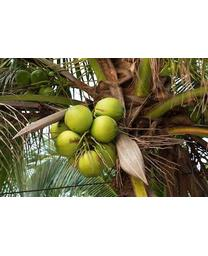coconut: (63, 104, 93, 131), (93, 116, 121, 142), (56, 131, 84, 157), (93, 98, 123, 118), (93, 143, 116, 169), (80, 149, 101, 177)
